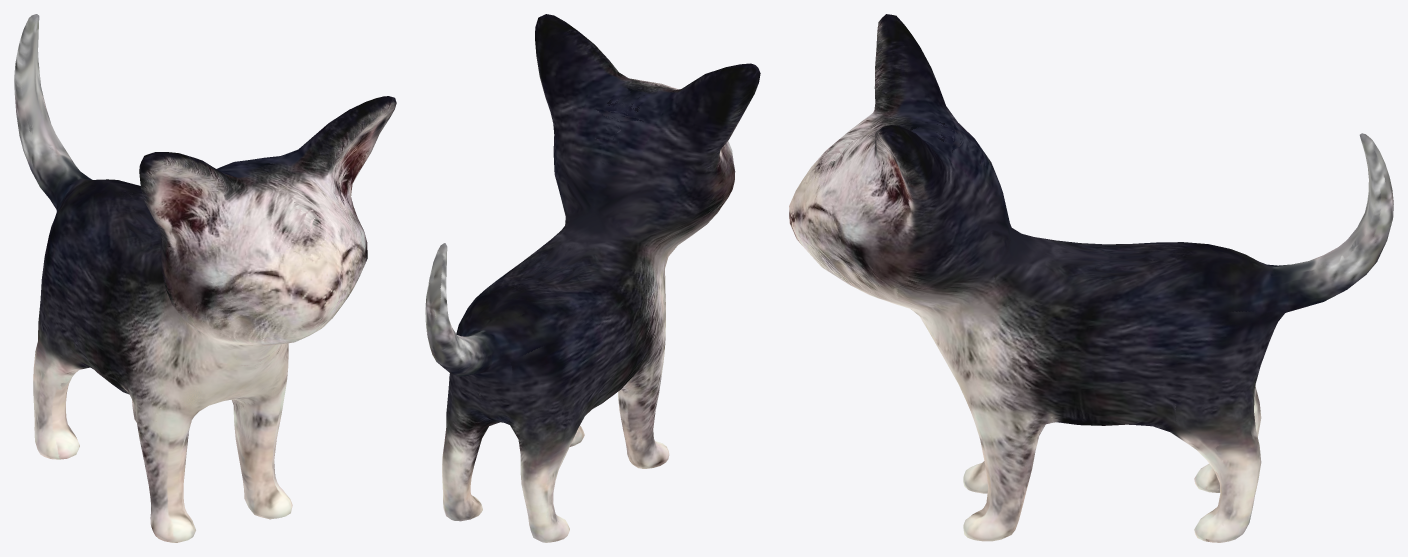
Rendered from sunny_kitty.glb.
3 views of the same model, side by side, from view 1: azimuth 30°, elevation 25°; view 2: azimuth 150°, elevation 25°; view 3: azimuth 270°, elevation 25° (orthographic). The views are drawn at different scales.
Parts seen in each view (by area): view 1: babuleh_0; view 2: babuleh_0; view 3: babuleh_0.
Boxes of the visible parts, box(x1,y1,x2,y2) form: babuleh_0: box(14, 14, 396, 542); babuleh_0: box(425, 14, 760, 542); babuleh_0: box(789, 14, 1393, 542).
Size of the model in its own units: 3.82 by 6.27 by 7.82.
Materials: 1 (1 with a texture image).
